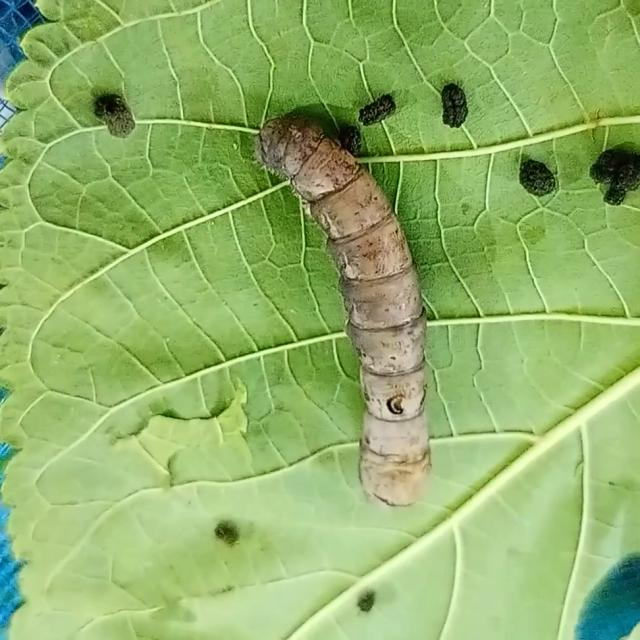Grasserie: (248, 87, 472, 528)
